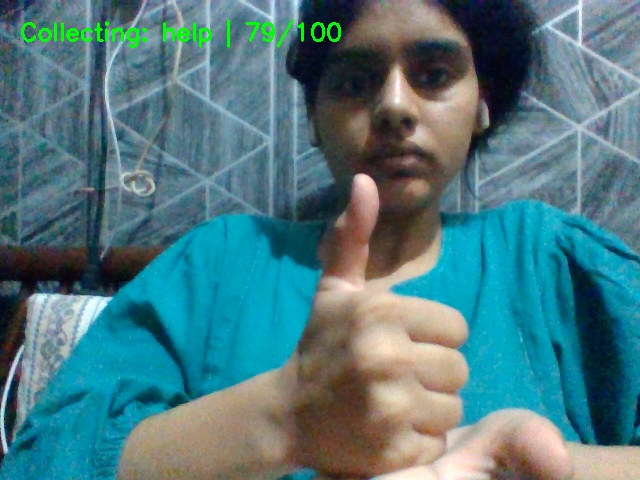help: (263, 169, 586, 478)
